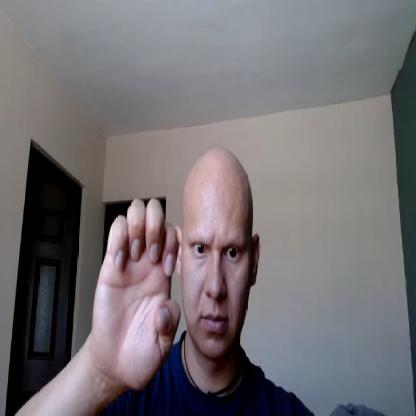E: (92, 195, 180, 388)
